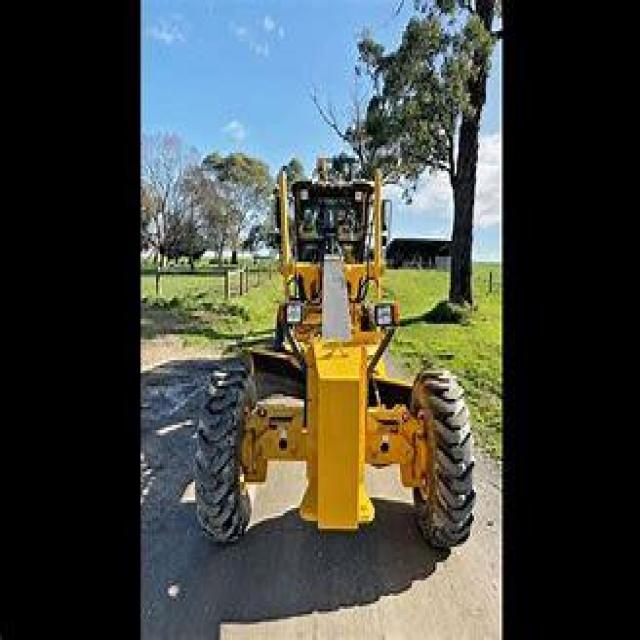Grader: (180, 142, 476, 552)
